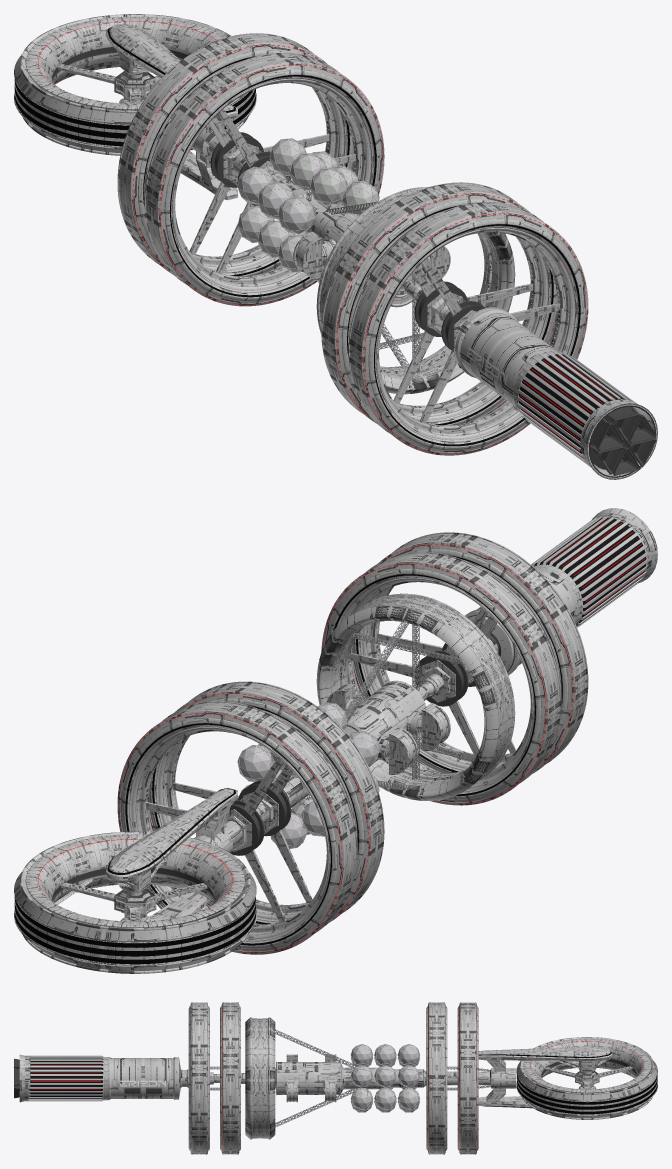
The model's file is programme_erizon.glb.
The picture shows the model from 3 angles, top to bottom: view 1: azimuth 30°, elevation 25°; view 2: azimuth 150°, elevation 25°; view 3: azimuth 270°, elevation 25°; orthographic projection. The views are drawn at different scales.
Parts seen in each view (by area): view 1: Cylinder.020, Cylinder.013, Cylinder.021, Cylinder.005, Cylinder.014, Icosphere, Circle.004, Cylinder.023, Cylinder.024, Cylinder, Cube, Cylinder.026 (+6 smaller); view 2: Cylinder.014, Cylinder.005, Cylinder.021, Cylinder, Cylinder.024, Cylinder.020, Cylinder.013, Cylinder.023, Circle.004, Cube, Icosphere, Cube.011 (+5 smaller); view 3: Cylinder.021, Cylinder.024, Icosphere, Cylinder, Cylinder.020, Cylinder.013, Cylinder.014, Cylinder.005, Cylinder.023, Cube, Cube.011, Cylinder.027 (+3 smaller).
Boxes of the visible parts, x1,y1,x2,y2 form: Cylinder.020: (348,202,588,455); Cylinder.013: (144,53,384,306); Cylinder.021: (191,128,657,479); Cylinder.005: (321,182,557,425); Cylinder.014: (117,33,353,276); Icosphere: (237,138,379,282); Circle.004: (189,89,559,423); Cylinder.023: (25,16,226,110); Cylinder.024: (14,14,256,155); Cylinder: (316,187,515,394); Cube: (105,24,237,200); Cylinder.026: (210,132,485,351); Cylinder.014: (117,701,357,954); Cylinder.005: (321,552,561,805); Cylinder.021: (194,508,657,852); Cylinder: (316,593,515,800); Cylinder.024: (14,831,256,973); Cylinder.020: (352,532,588,773); Cylinder.013: (148,681,384,924); Cylinder.023: (25,834,244,927); Circle.004: (146,588,516,922); Cube: (105,787,237,921); Icosphere: (237,702,379,849); Cube.011: (225,620,476,851); Cylinder.021: (19,1054,516,1102); Cylinder.024: (516,1037,657,1119); Icosphere: (350,1044,420,1112); Cylinder: (245,1017,275,1139); Cylinder.020: (188,1002,209,1154); Cylinder.013: (426,1002,447,1154); Cylinder.014: (457,1002,478,1154); Cylinder.005: (220,1002,240,1154); Cylinder.023: (523,1038,651,1093); Cube: (478,1046,612,1108); Cube.011: (210,1029,490,1127); Cylinder.027: (30,1058,103,1096).
Size of the model in its own units: 53.96 by 53.96 by 228.
Materials: 8 (2 with a texture image).
